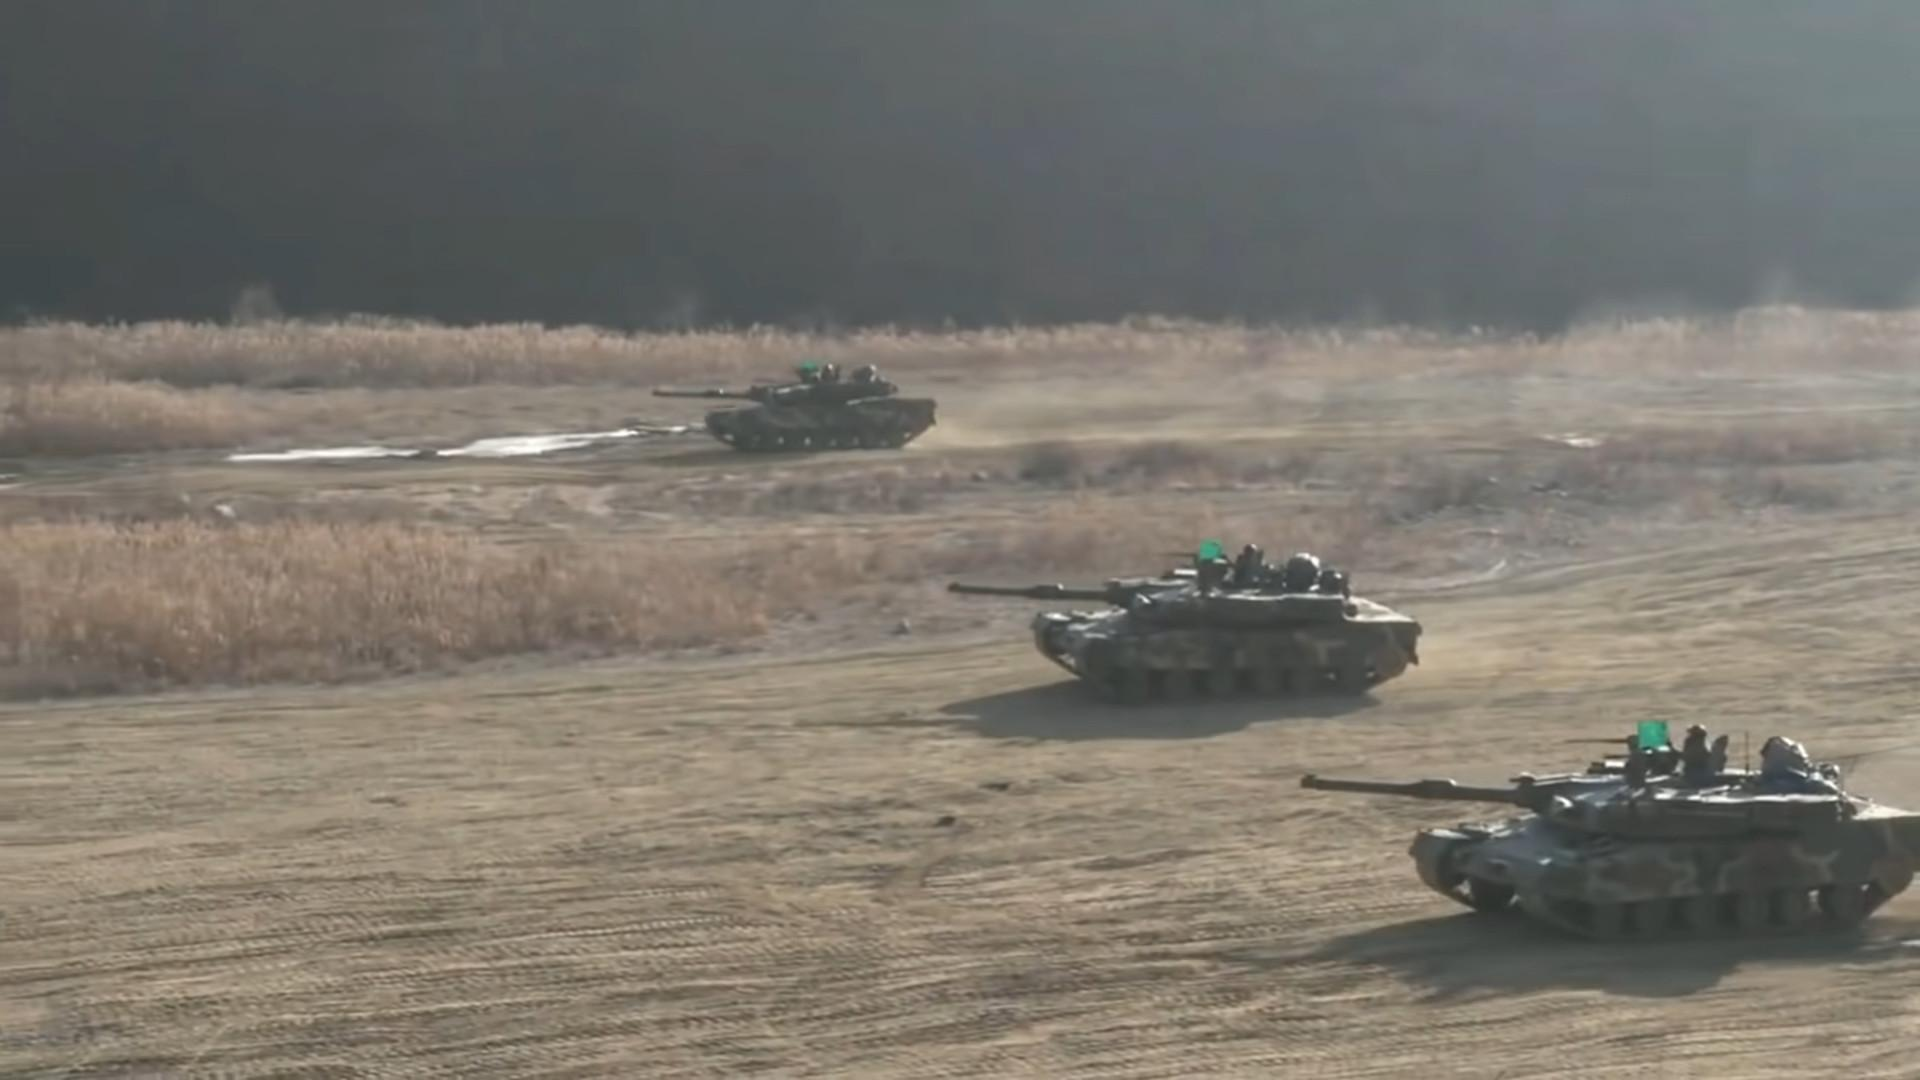tank: (1299, 725, 1919, 941), (952, 546, 1422, 707), (651, 361, 938, 452)
